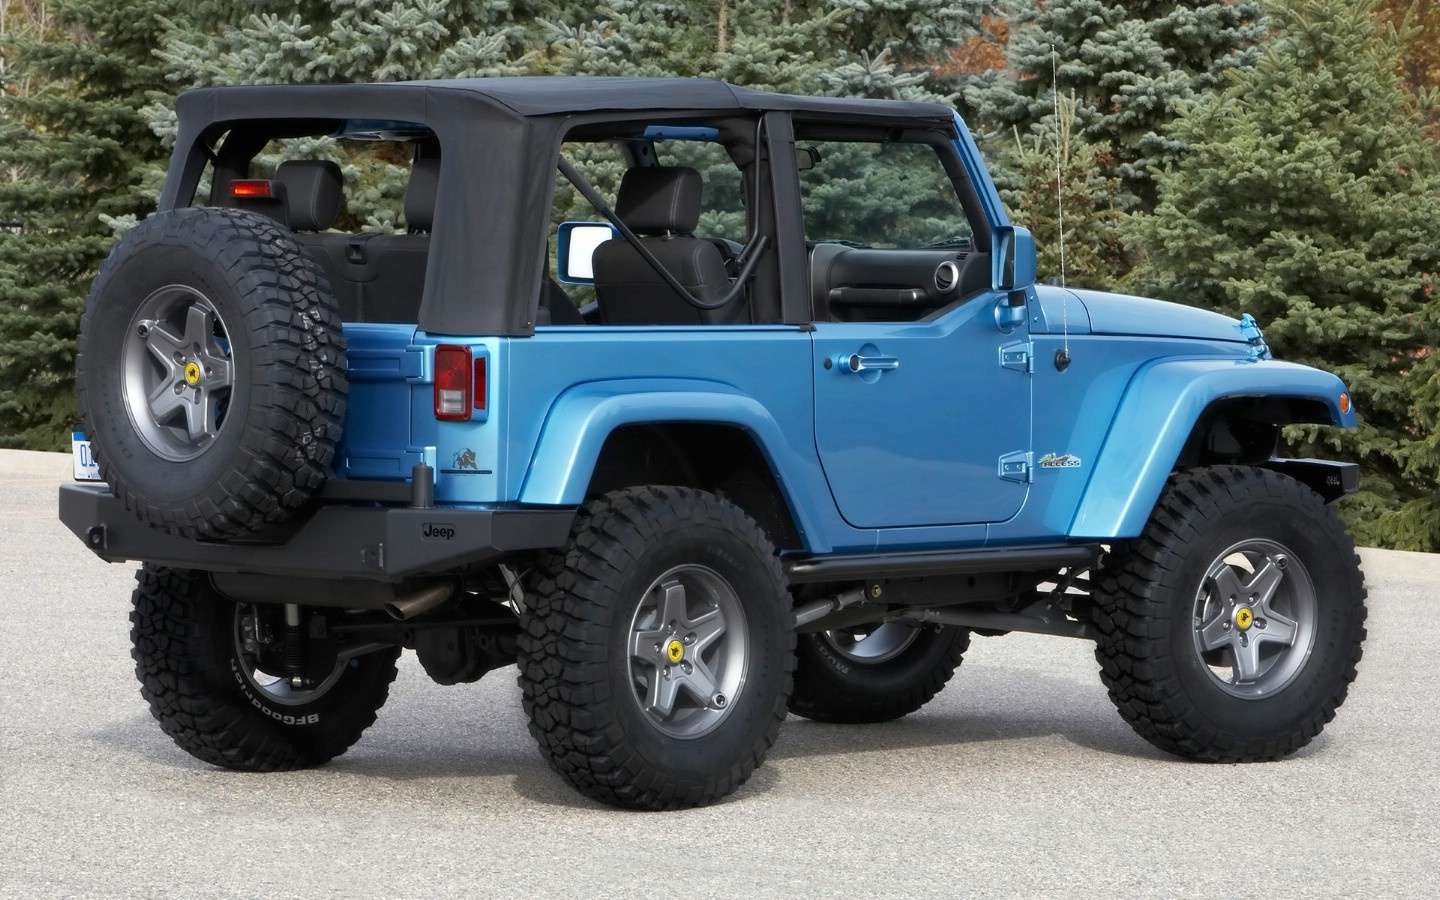jeep: (94, 52, 1375, 821)
